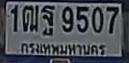0: (92, 6, 102, 32)
1: (10, 4, 17, 31)
5: (76, 6, 88, 32)
7: (106, 6, 118, 33)
9: (61, 5, 72, 31)
A16: (41, 5, 54, 31)
A18: (22, 4, 38, 31)
BKK: (17, 39, 107, 58)
